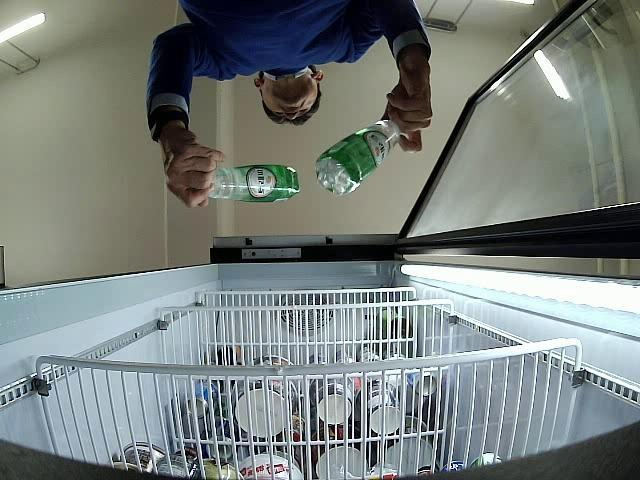18_trevi: (316, 118, 400, 196), (209, 165, 300, 204)
